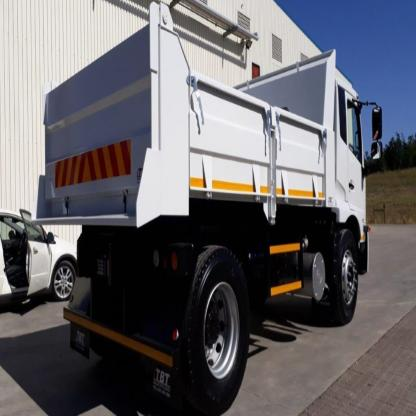dump_truck: (39, 2, 380, 416)
